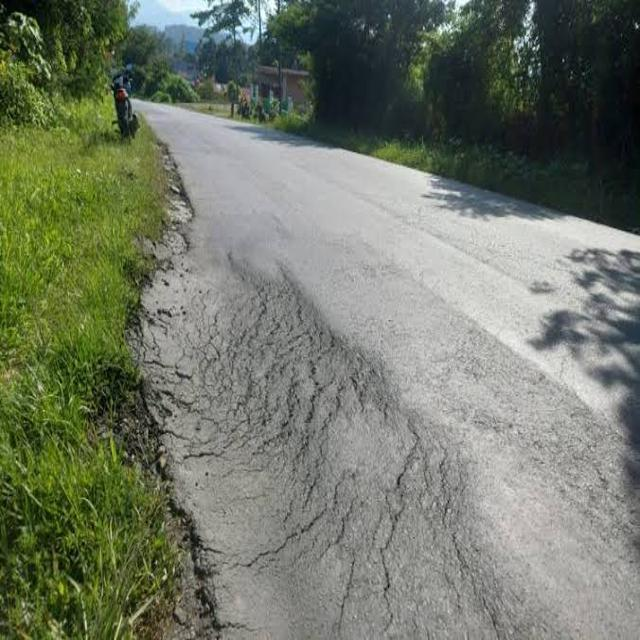Pinggir: (96, 184, 306, 640)
